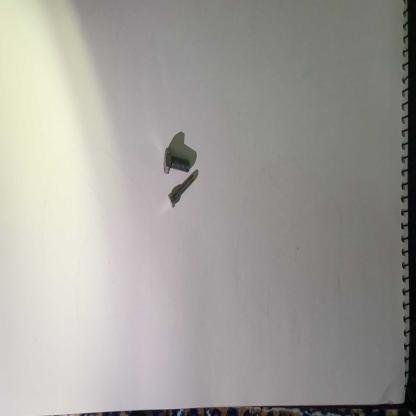Bolts: (167, 172, 200, 210), (160, 142, 191, 176)
